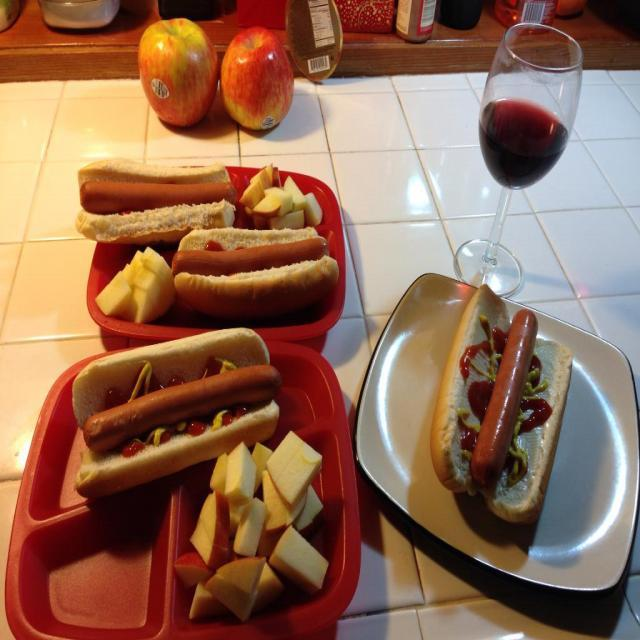Hot dog: (69, 328, 282, 496), (432, 280, 570, 525), (168, 222, 340, 310), (71, 156, 232, 247)
